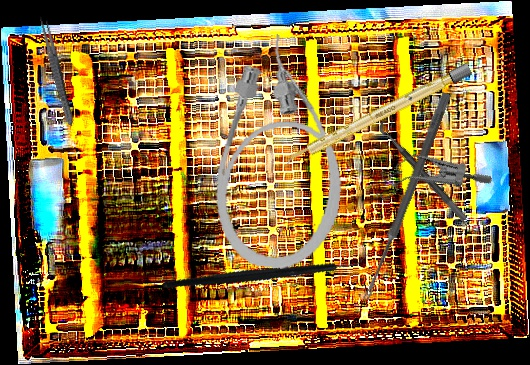Cannula: (207, 29, 359, 275)
Chopper: (161, 204, 372, 335)
Dressing Forceps: (36, 14, 77, 128)
Fixation Ring: (376, 114, 476, 223)
Scalpel Handle: (282, 62, 473, 169)
Speculum: (365, 125, 494, 236)
Surgical Spoon: (361, 91, 452, 302)
